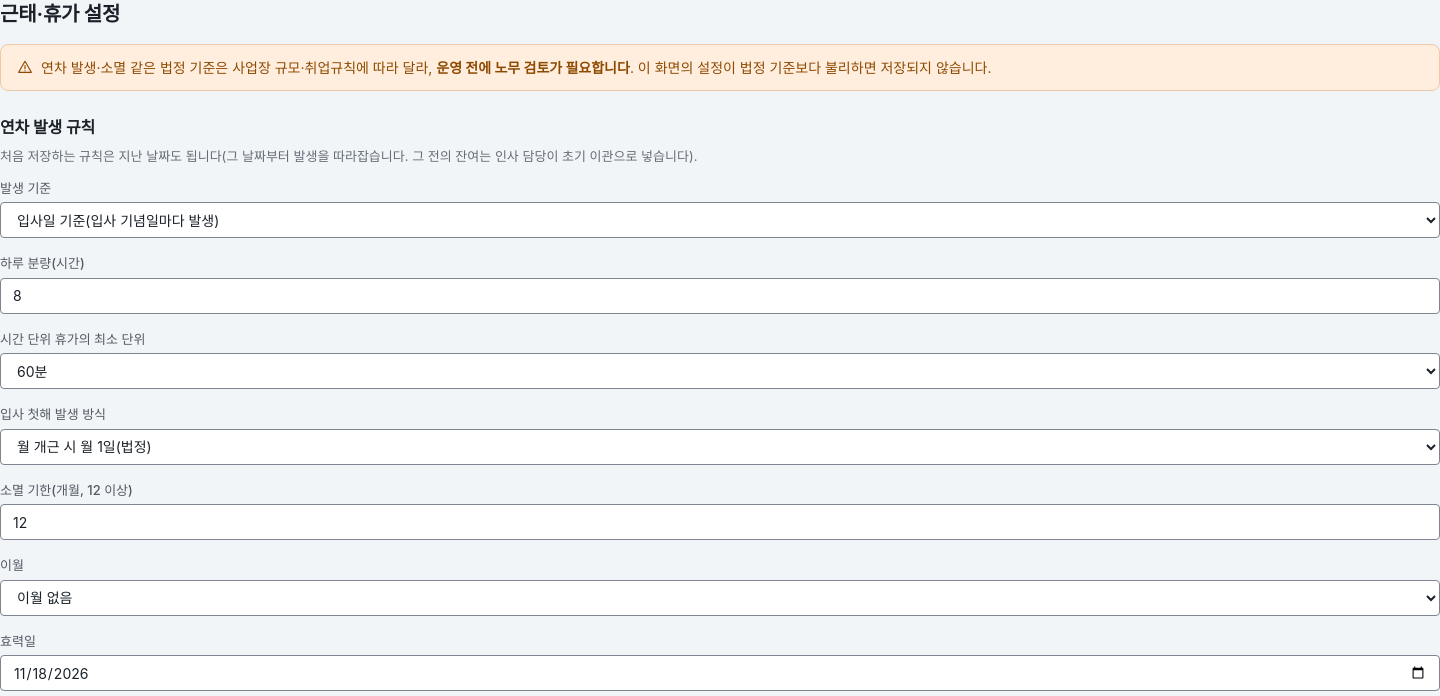
Test: 근태·휴가 설정 화면(B50) › 규칙 저장은 시간을 분으로, 이월 일수를 분으로 바꿔 보낸다. 거부 문구는 그대로 보인다
Replace the text in the number field labelled "하루 분량(시간)" with "7" at point(720, 296), box [0, 278, 1439, 314]
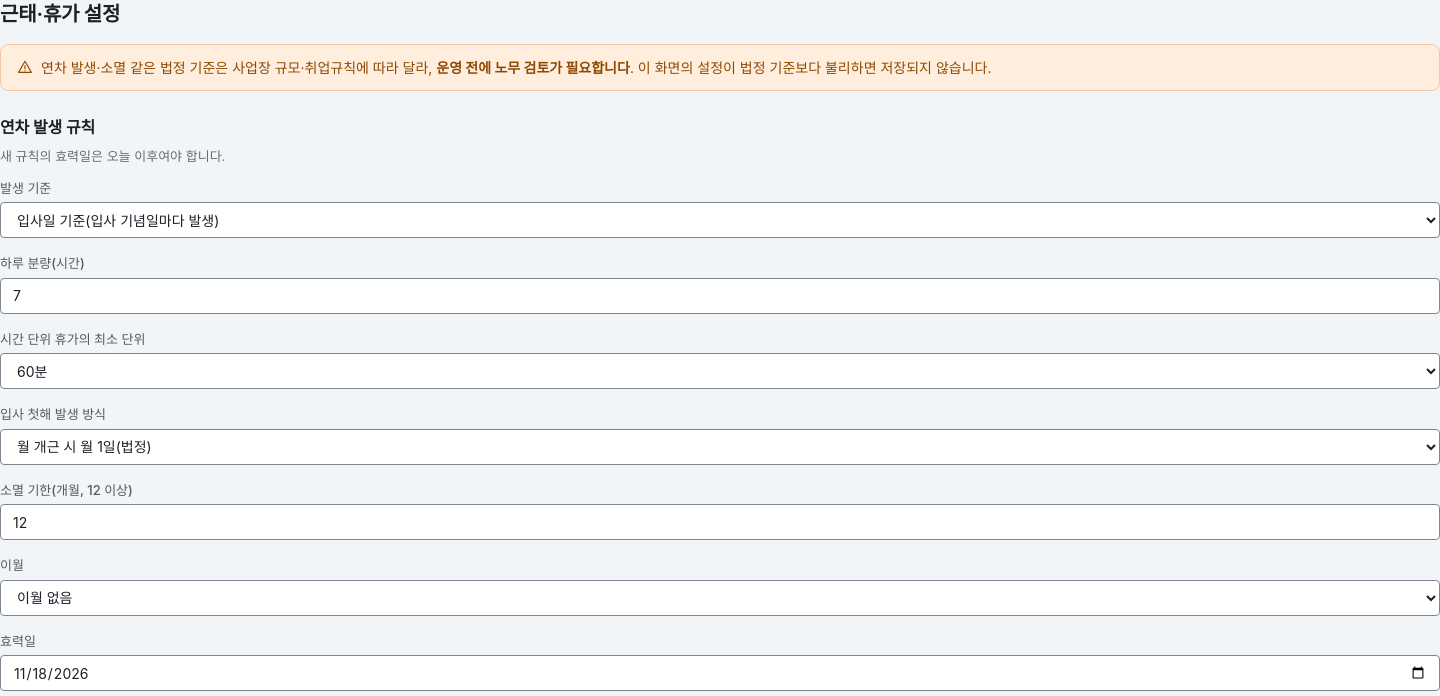
Select "일수 한도까지 이월" in the dropdown labelled "이월" at point(720, 598), box [0, 580, 1439, 616]
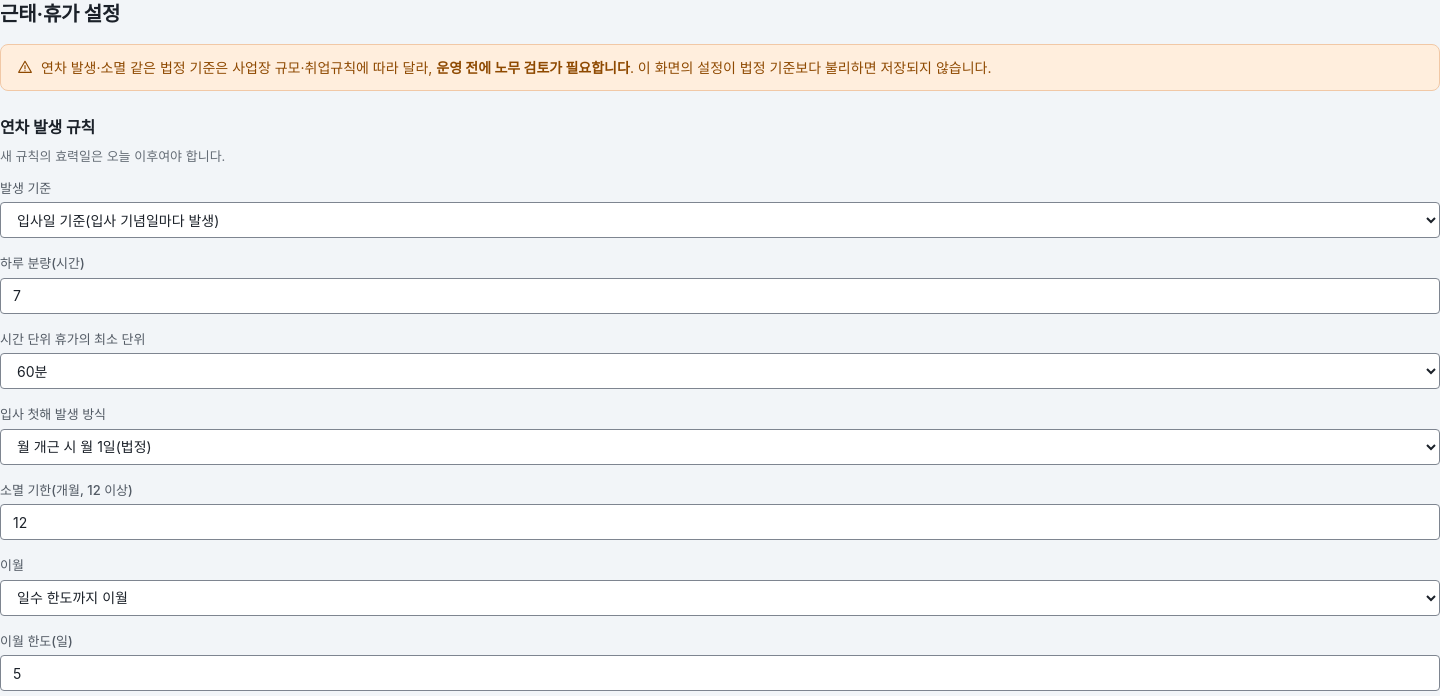
Replace the text in the number field labelled "이월 한도(일)" with "3" at point(720, 673), box [0, 655, 1439, 691]
(page scrolled)
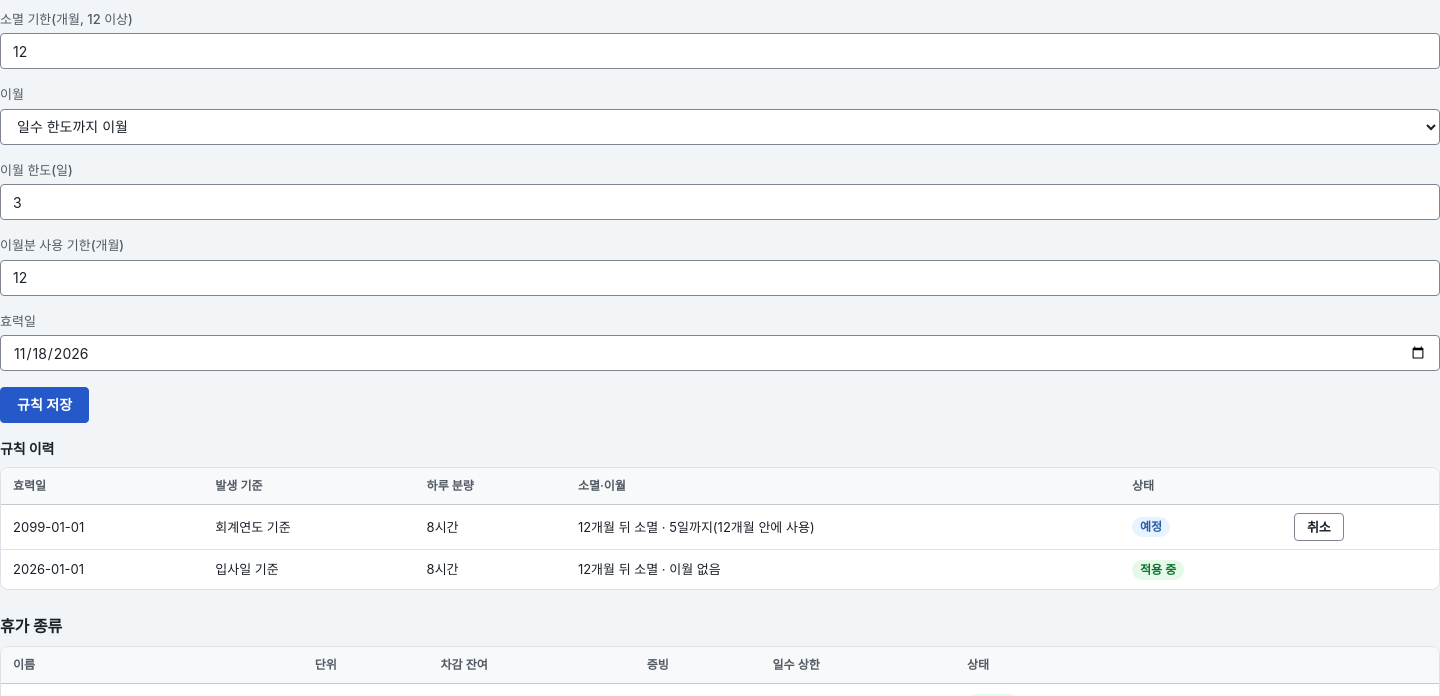
Click the button "규칙 저장" at point(45, 405), box [0, 387, 89, 423]
(page scrolled)
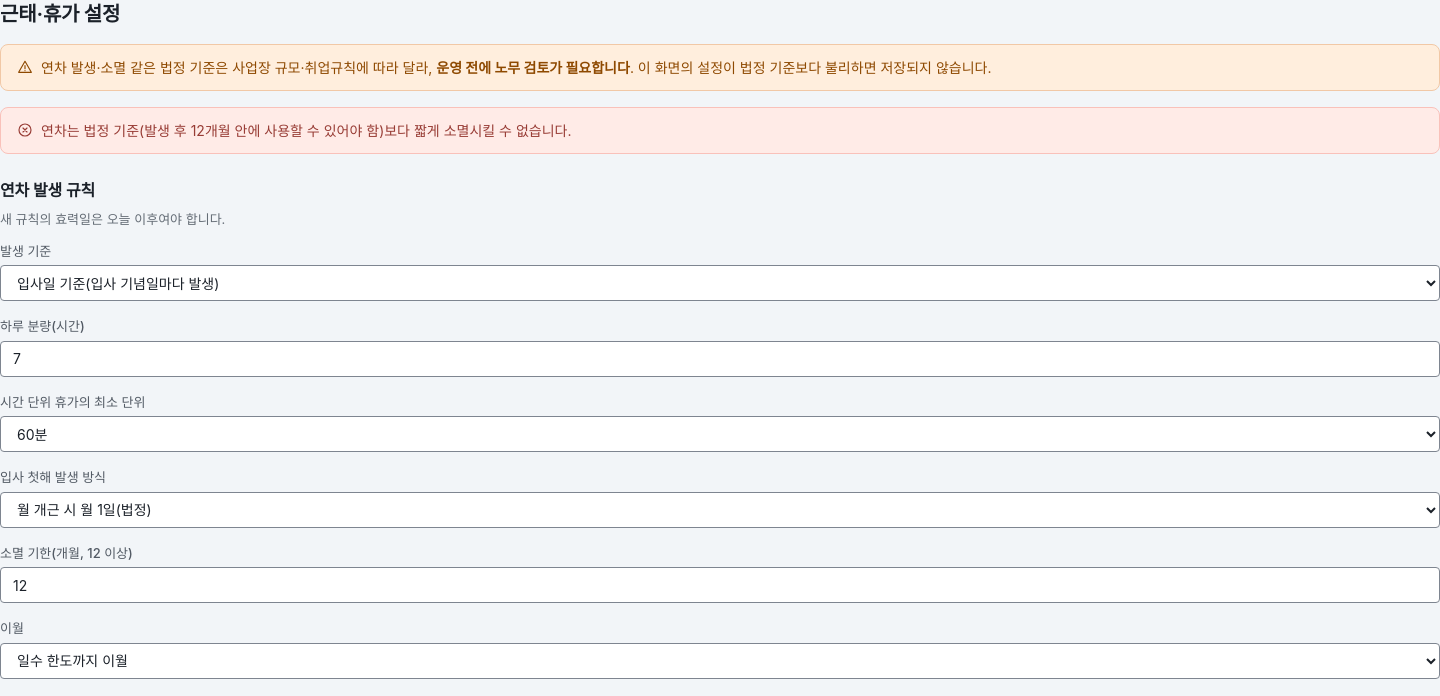
Result: the text "연차는 법정 기준(발생 후 12개월 안에 사용할 수 있어야 함)보다 짧게 소멸시킬 수 없습니다." is shown at [41, 120, 572, 141]
